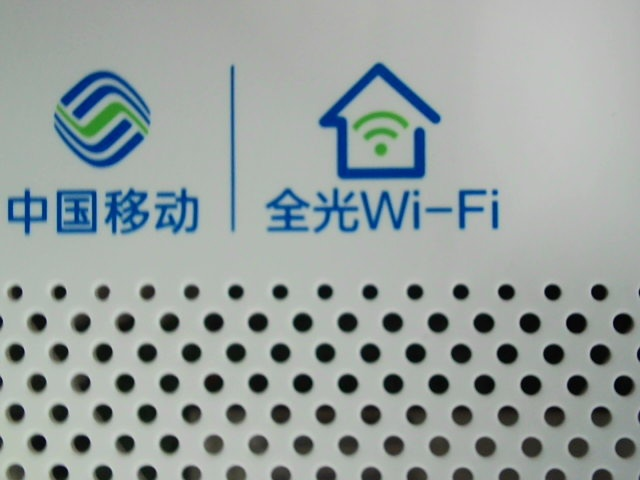BJ_QuanGuangMobile: (3, 61, 507, 235)
